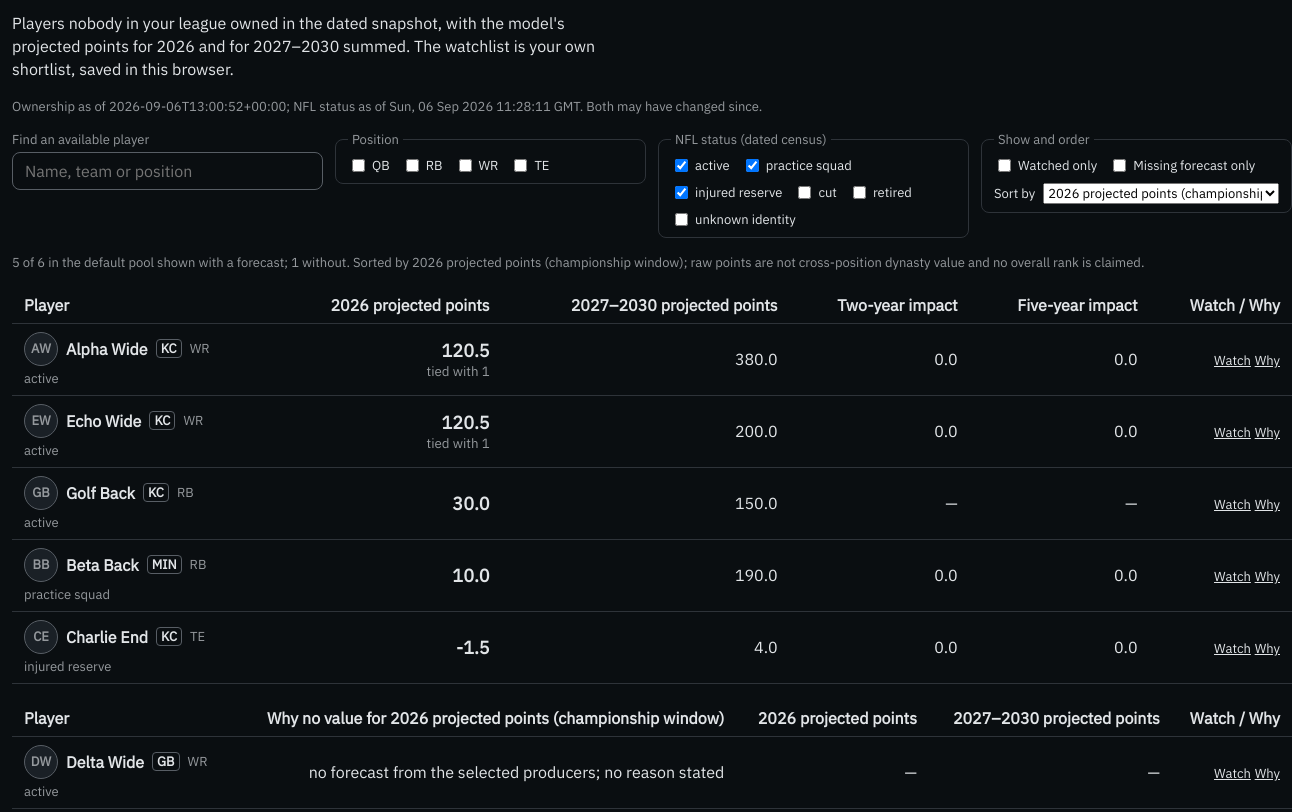
AvailablePlayers › watches by stable id with identity metadata, keeps a watched player who left the pool or the census, explains ignored controls, and persists
This screenshot has width=1292, height=812.
Later steps or results of the test are not shown.
expect the element named "Available players" is shown: met, box top-left (12, 287), bottom-right (1291, 684)
Click the checkbox labelled "Watched only": point(1004, 165) top-left (998, 159), bottom-right (1011, 172)
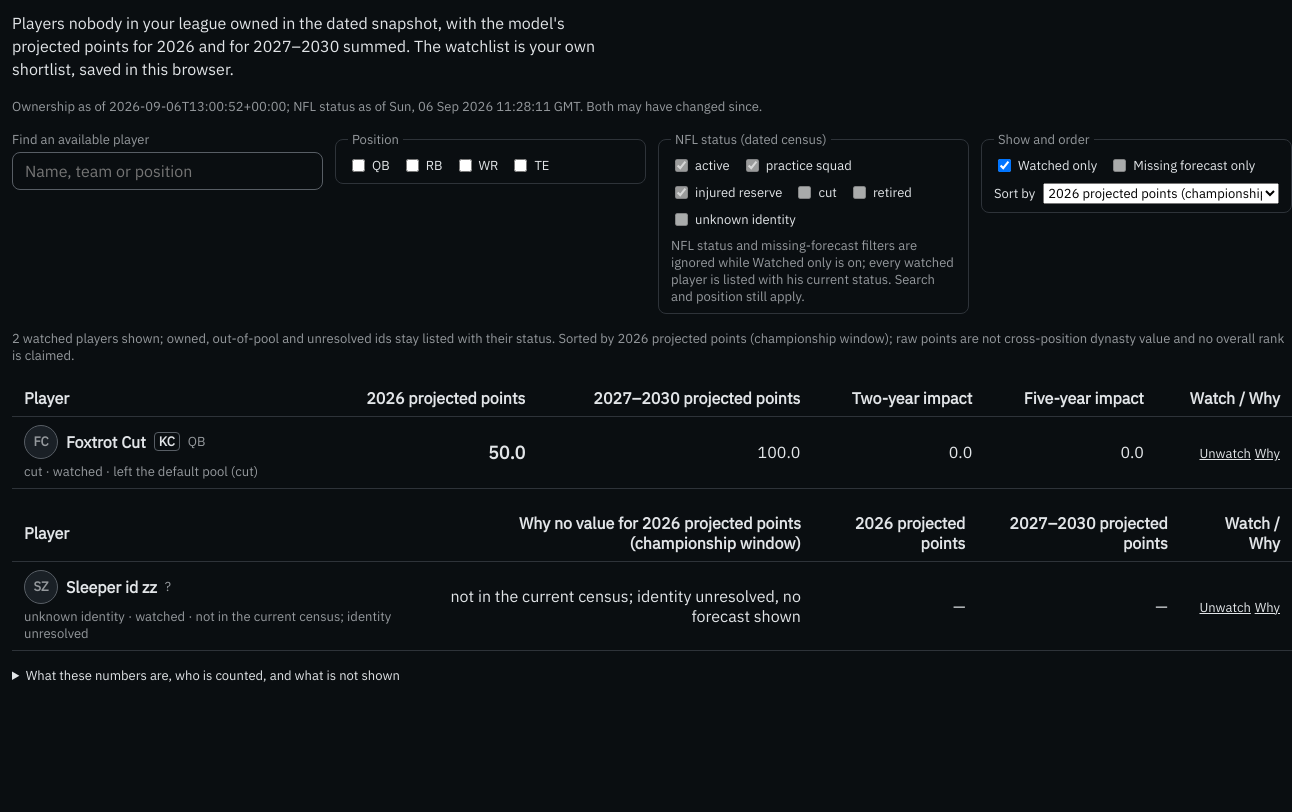
expect the text "Foxtrot Cut" is shown: met, box top-left (66, 432), bottom-right (146, 452)
expect the text "cut · watched · left the default pool (cut)" is shown: met, box top-left (24, 463), bottom-right (258, 480)
expect the text "Sleeper id zz" is shown: met, box top-left (66, 577), bottom-right (157, 597)
Click the checkbox labelled "Watched only": point(1004, 165) top-left (998, 159), bottom-right (1011, 172)
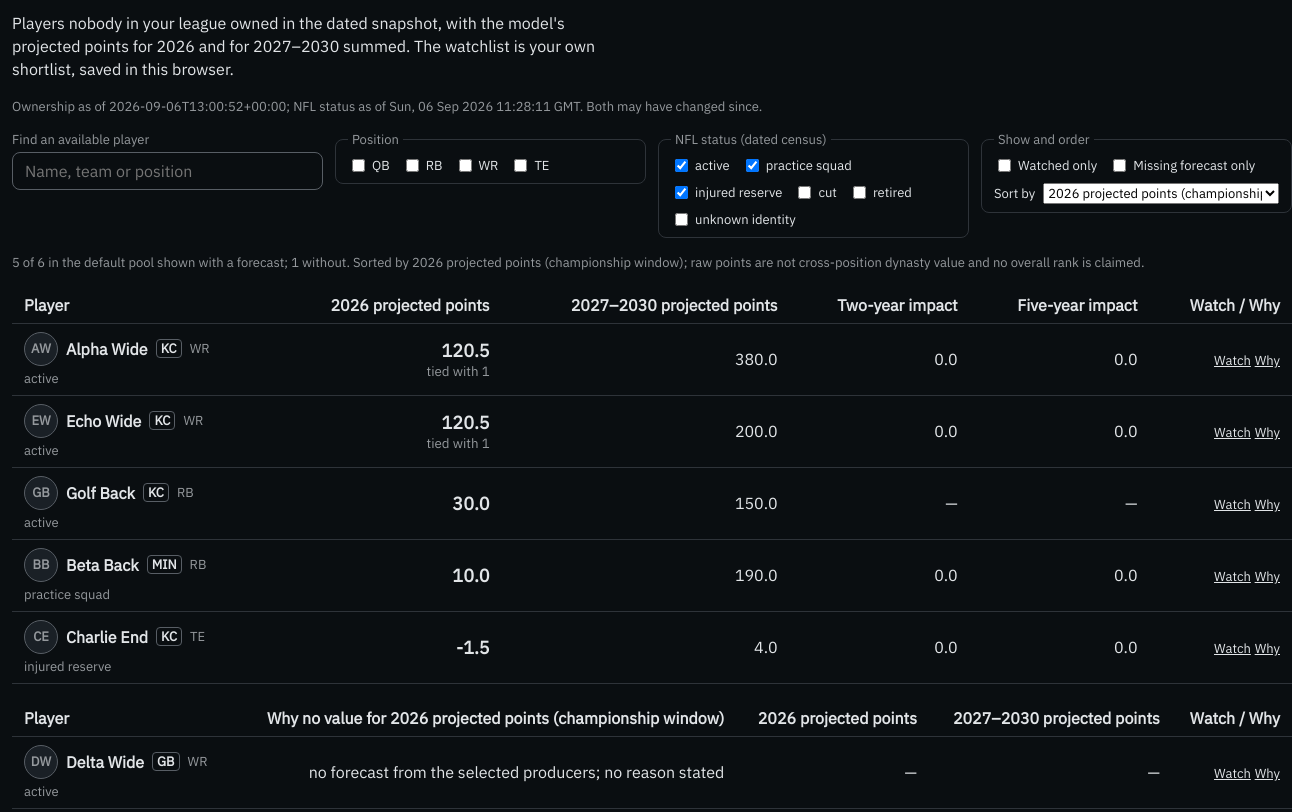
Click the button with aria-label "Watch Alpha Wide": point(1232, 361) top-left (1214, 352), bottom-right (1251, 369)
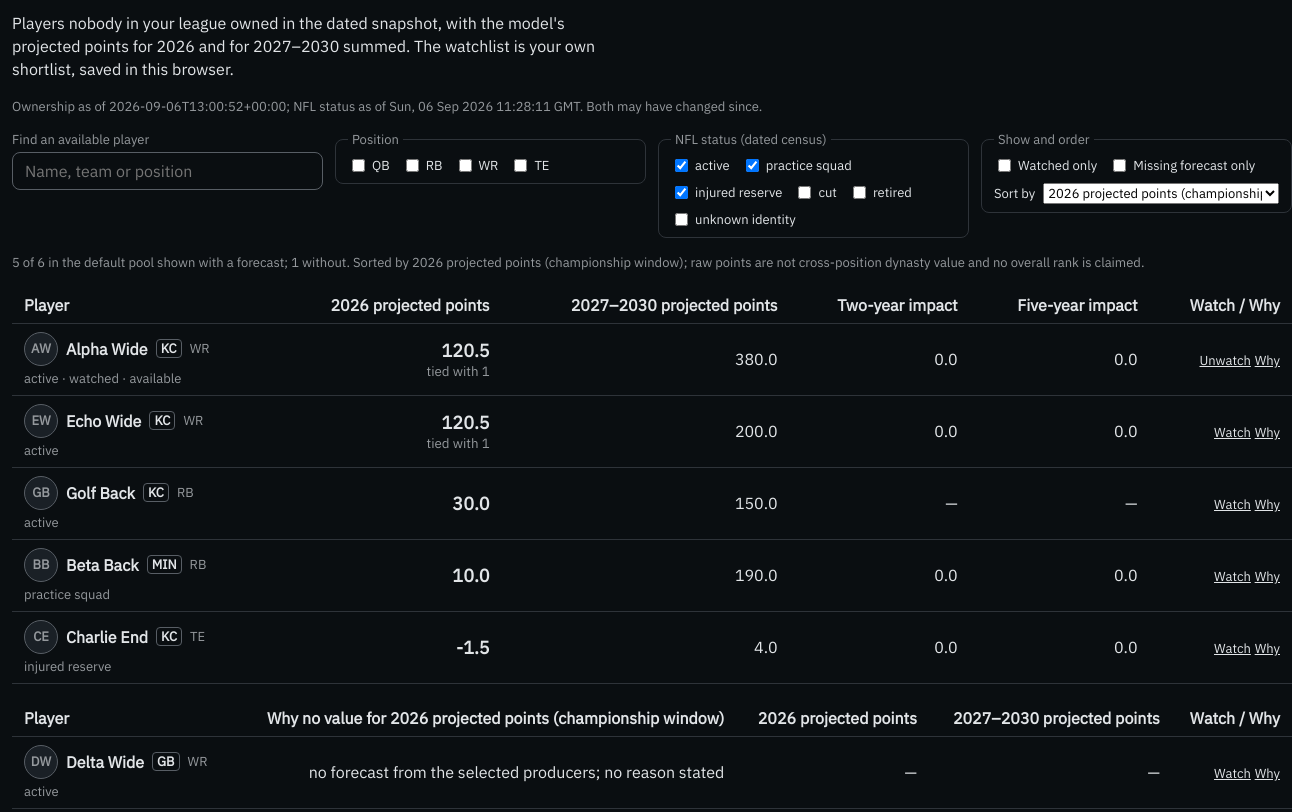
expect the text "Alpha Wide" is shown: met, box top-left (66, 339), bottom-right (148, 359)
